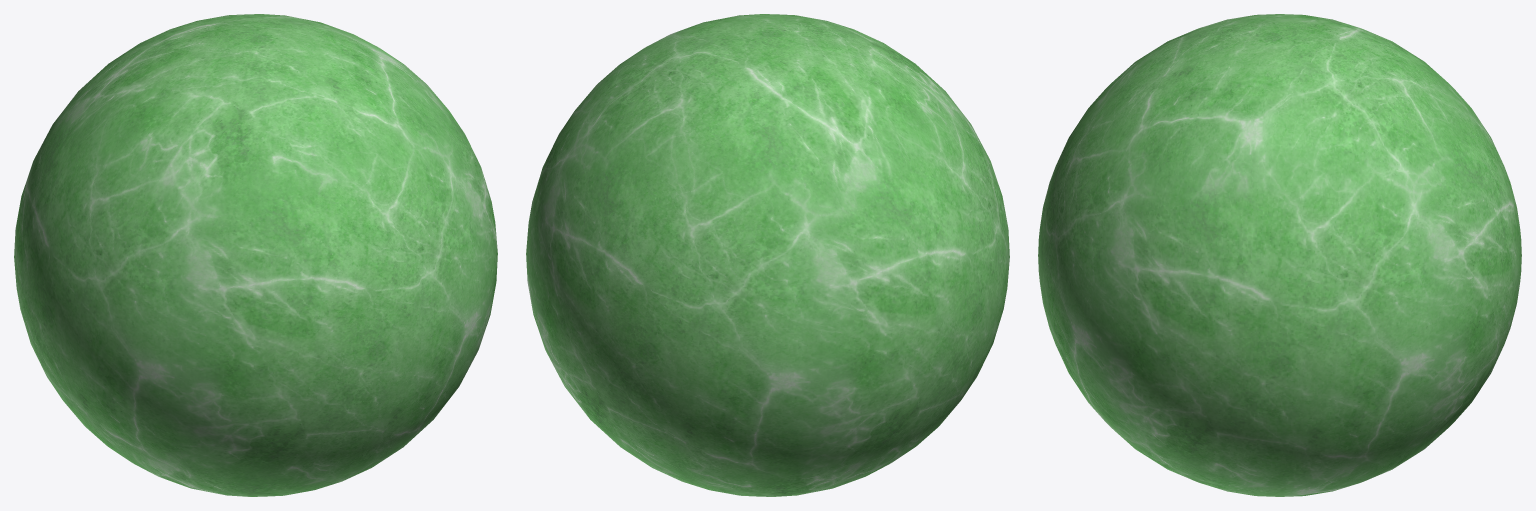
File: UIMD_Beads_01.fbx
3 renders of one model, left to right at view 1: azimuth 30°, elevation 25°; view 2: azimuth 150°, elevation 25°; view 3: azimuth 270°, elevation 25°, orthographic.
Visible parts, largest first — view 1: beads; view 2: beads; view 3: beads.
Boxes of the visible parts, box(x1,y1,x2,y2) form: beads: box(14, 14, 497, 496); beads: box(526, 14, 1009, 496); beads: box(1038, 14, 1521, 496).
Bounding box in the file's own units: 30 × 30 × 30.
